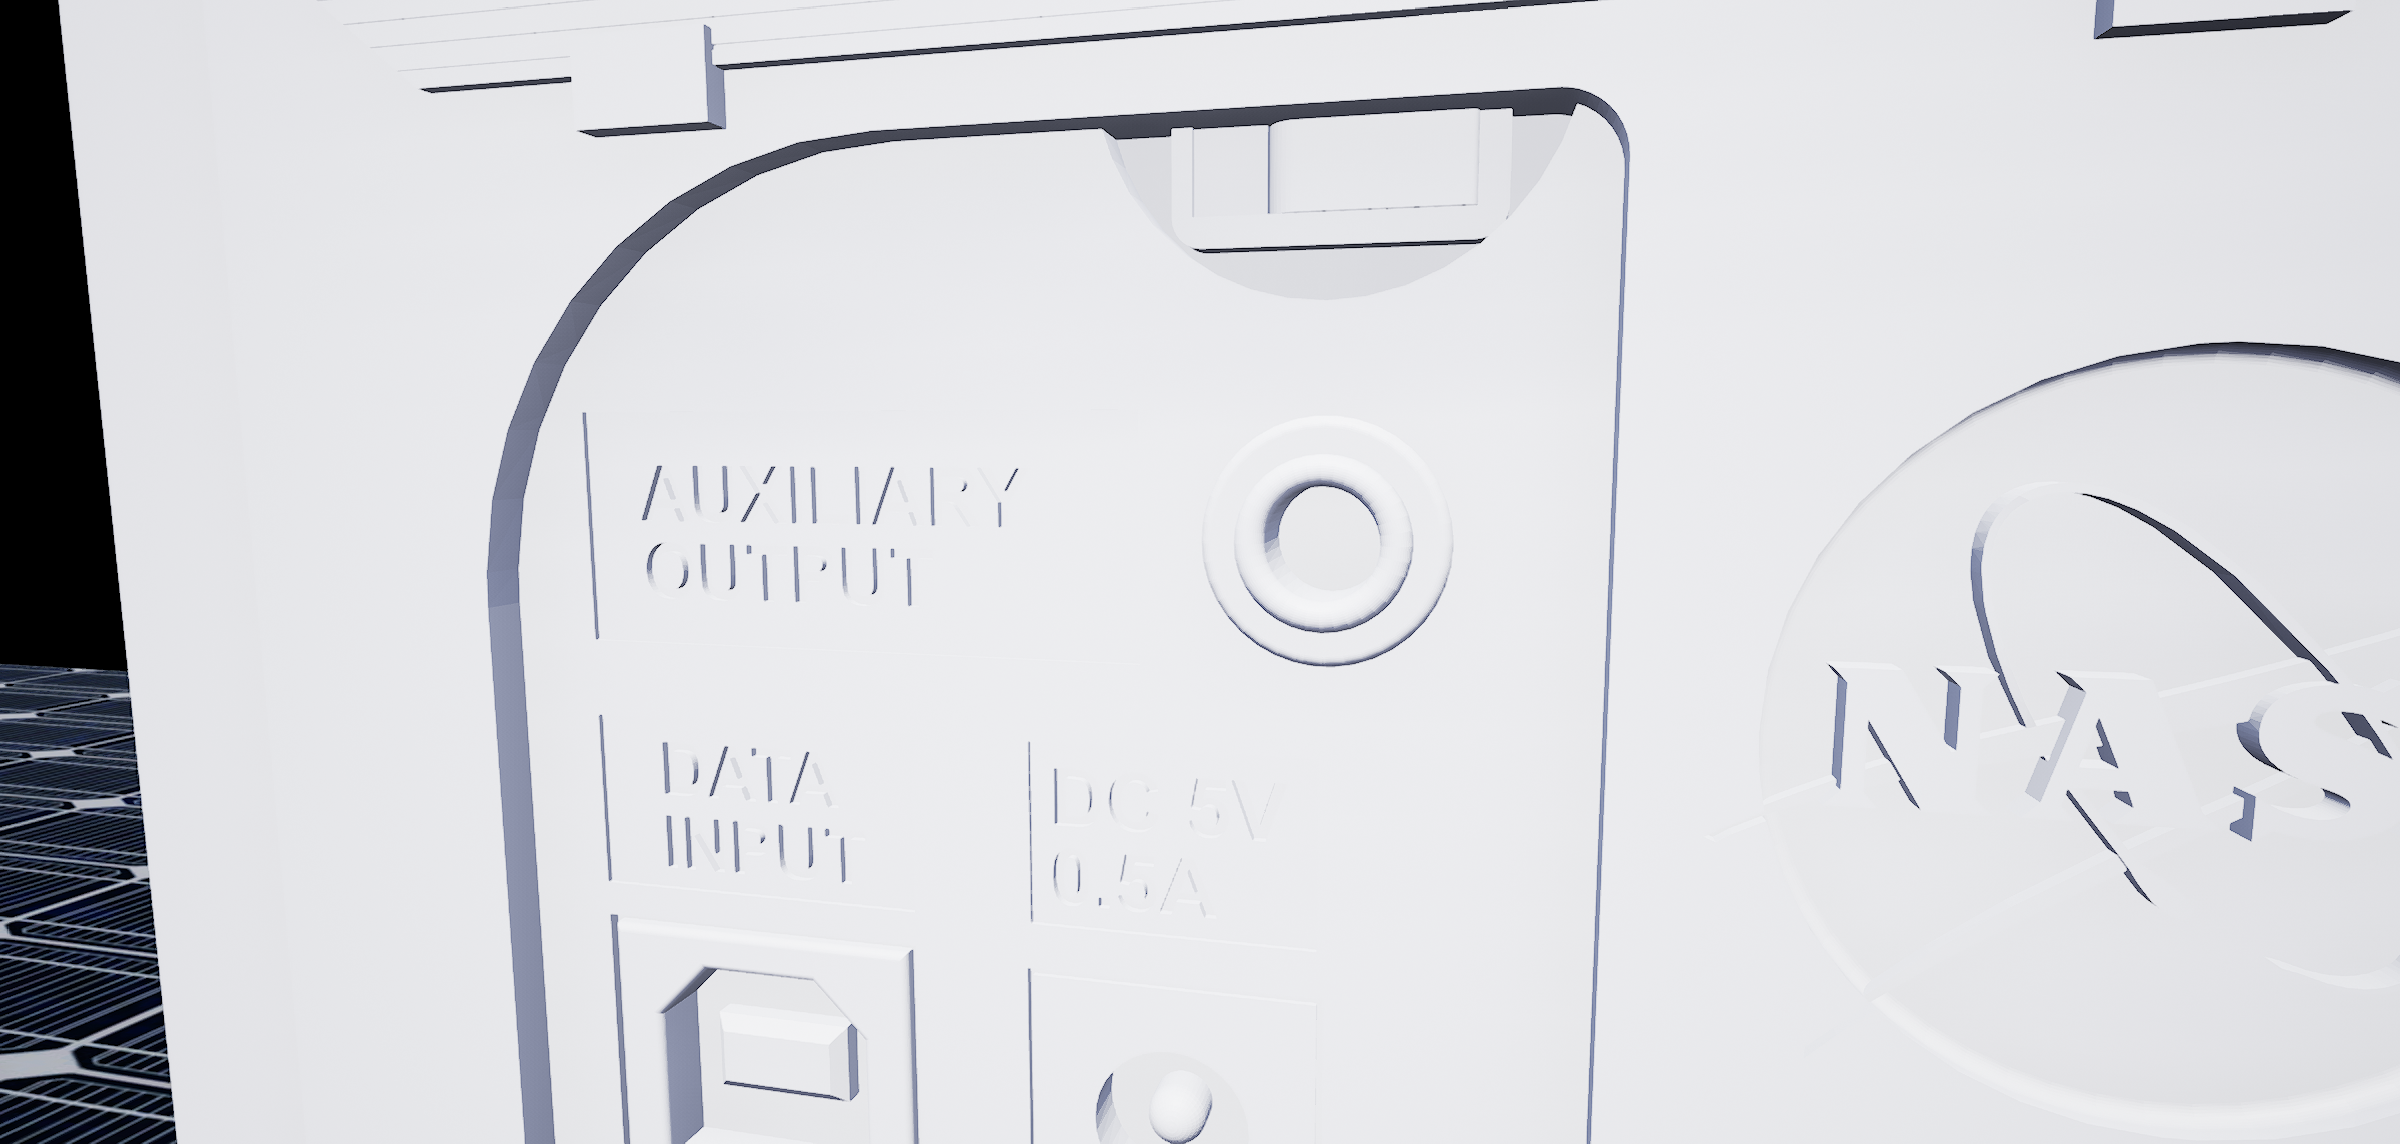aux: (1179, 397, 1466, 691)
dc: (1071, 1026, 1263, 1144)
usb: (651, 960, 871, 1144)
